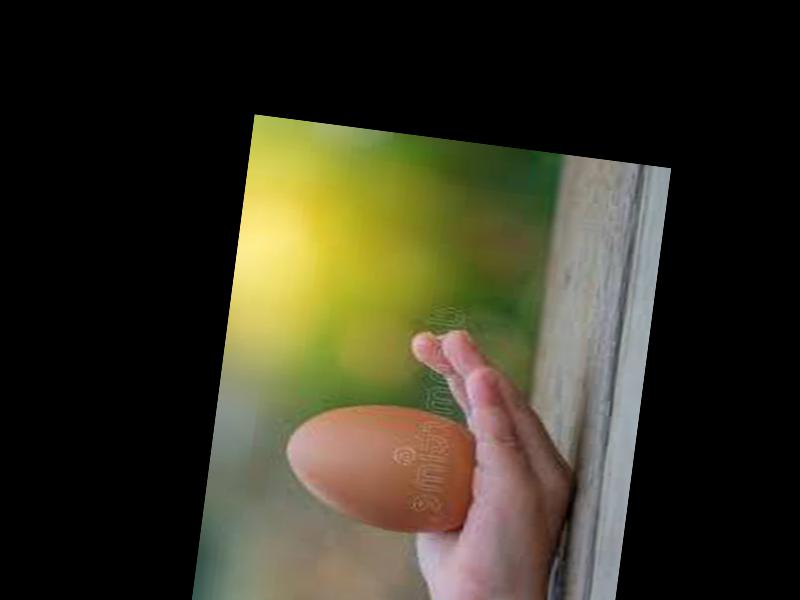Eggs: (278, 394, 482, 543)
